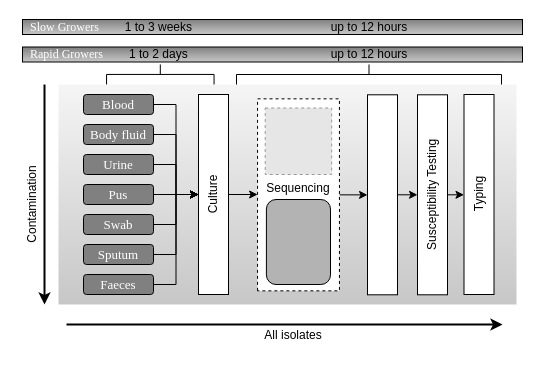
The diagram is 540 pixels wide and 368 high, and some of its shapes have lost their labels. Grey dashed boxes stand in for pictures. Each missing label, with the centre of its shape:
Read Processing and Assembly: point (297, 241)
Species Identification: point (382, 194)
